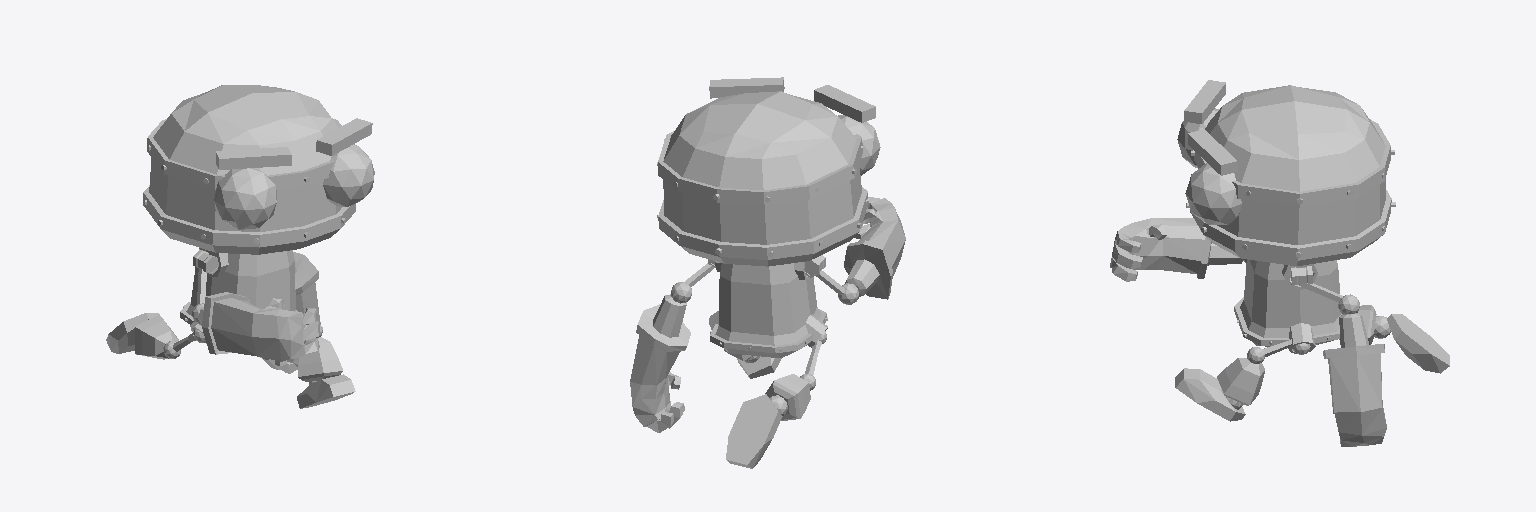
Rendered from Robot_000022.obj.
3 views of the same model, side by side, from view 1: azimuth 30°, elevation 25°; view 2: azimuth 150°, elevation 25°; view 3: azimuth 270°, elevation 25° (orthographic).
Visible parts, largest first — view 1: Head_Cylinder, Hand.R_Cylinder.015, Torso_Cube.001, Hand.L_Cylinder.022, LowerLeg.L_Cylinder.012, LowerLeg.R_Cylinder.018, Foot.L_Cylinder.014, Foot.R_Cylinder.017; view 2: Head_Cylinder, Torso_Cube.001, Hand.L_Cylinder.022, Hand.R_Cylinder.015, Foot.R_Cylinder.017, LowerLeg.R_Cylinder.018, Arm.L_Cylinder.010, Foot.L_Cylinder.014, Arm.R_Cylinder.013; view 3: Head_Cylinder, Torso_Cube.001, Hand.L_Cylinder.022, Hand.R_Cylinder.015, Foot.R_Cylinder.017, Foot.L_Cylinder.014, LowerLeg.L_Cylinder.012, LowerLeg.R_Cylinder.018, Arm.L_Cylinder.010.
Part boxes in pixels (bbox=[...]): Head_Cylinder: bbox=[143, 85, 374, 254]; Hand.R_Cylinder.015: bbox=[198, 292, 319, 361]; Torso_Cube.001: bbox=[180, 248, 296, 343]; Hand.L_Cylinder.022: bbox=[260, 252, 320, 373]; LowerLeg.L_Cylinder.012: bbox=[298, 337, 342, 384]; LowerLeg.R_Cylinder.018: bbox=[135, 314, 178, 359]; Foot.L_Cylinder.014: bbox=[297, 374, 355, 408]; Foot.R_Cylinder.017: bbox=[106, 313, 158, 353]; Head_Cylinder: bbox=[657, 77, 880, 266]; Torso_Cube.001: bbox=[709, 261, 827, 357]; Hand.L_Cylinder.022: bbox=[630, 294, 690, 432]; Hand.R_Cylinder.015: bbox=[844, 197, 905, 299]; Foot.R_Cylinder.017: bbox=[726, 394, 782, 468]; LowerLeg.R_Cylinder.018: bbox=[765, 374, 810, 420]; Arm.L_Cylinder.010: bbox=[671, 263, 714, 303]; Foot.L_Cylinder.014: bbox=[737, 356, 781, 378]; Arm.R_Cylinder.013: bbox=[816, 270, 858, 304]; Head_Cylinder: bbox=[1177, 80, 1395, 265]; Torso_Cube.001: bbox=[1234, 259, 1342, 354]; Hand.L_Cylinder.022: bbox=[1323, 313, 1386, 446]; Hand.R_Cylinder.015: bbox=[1110, 218, 1243, 281]; Foot.R_Cylinder.017: bbox=[1387, 314, 1449, 373]; Foot.L_Cylinder.014: bbox=[1175, 368, 1245, 421]; LowerLeg.L_Cylinder.012: bbox=[1217, 358, 1264, 409]; LowerLeg.R_Cylinder.018: bbox=[1339, 305, 1390, 344]; Arm.L_Cylinder.010: bbox=[1299, 283, 1359, 314].
Size of the model in its own units: 2.66 by 4.18 by 4.12.